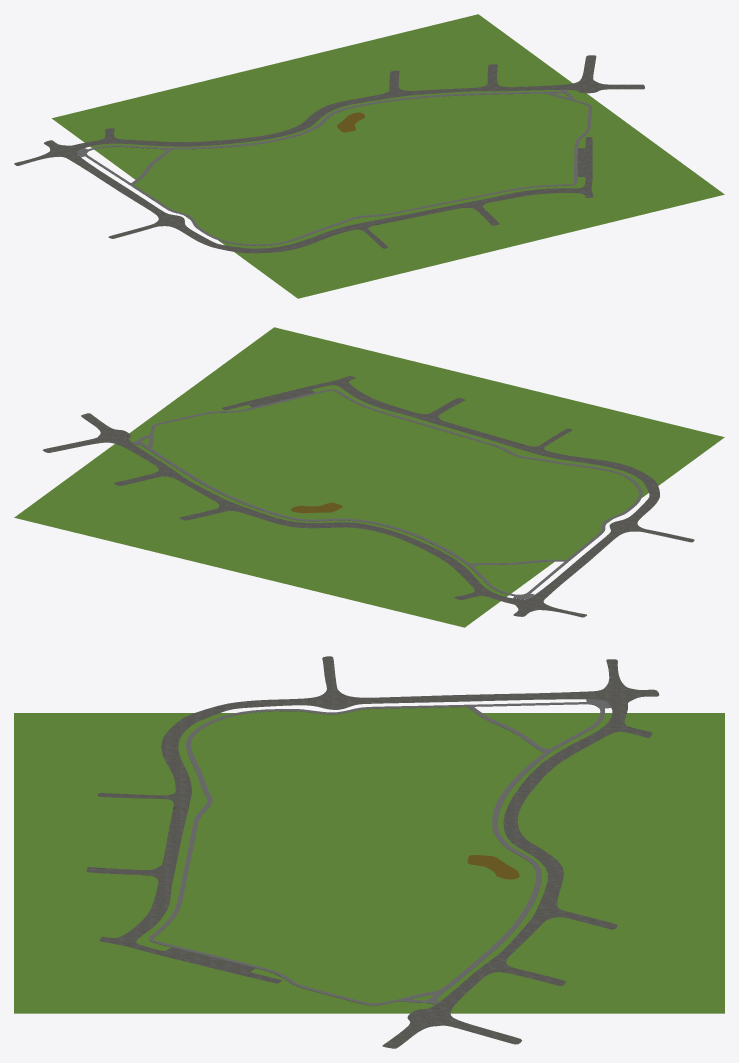
File: LargeOval.glb
3 views of the same model, one above another, from view 1: azimuth 30°, elevation 25°; view 2: azimuth 150°, elevation 25°; view 3: azimuth 270°, elevation 25° (orthographic). The views are drawn at different scales.
Parts seen in each view (by area): view 1: LargeGround, MainGrass-col, Road, Path; view 2: LargeGround, MainGrass-col, Road, Path; view 3: LargeGround, MainGrass-col, Road, Path, PlaygroundGround.
Part boxes in pixels (x1,y1,x2,y2): LargeGround: (52,14,724,298); MainGrass-col: (134,93,588,244); Road: (14,55,644,253); Path: (77,89,591,245); LargeGround: (14,327,724,627); MainGrass-col: (151,390,638,563); Road: (42,376,694,617); Path: (132,389,642,599); LargeGround: (14,713,724,1013); MainGrass-col: (153,707,542,1003); Road: (86,656,659,1048); Path: (149,699,610,1005); PlaygroundGround: (467,855,519,879).
Size of the model in its own units: 489 by 0.6438 by 374.
Materials: 4 (1 with a texture image).
